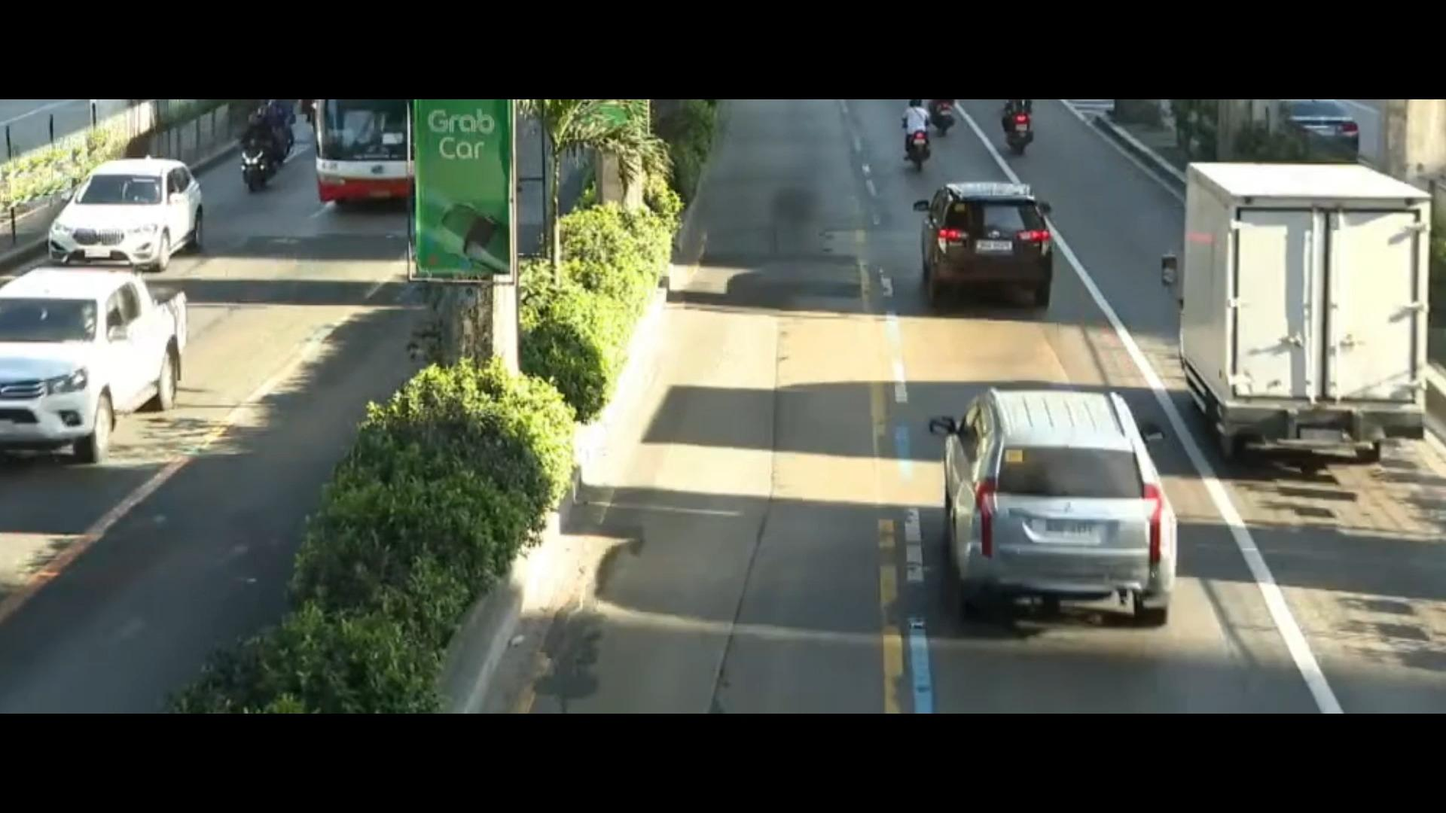Bus: (290, 101, 412, 215)
Motorcycle: (232, 104, 278, 187), (986, 98, 1053, 148), (884, 104, 930, 166), (268, 98, 302, 163), (927, 96, 961, 136)
Pickup: (0, 254, 215, 502)
SUV: (908, 354, 1227, 651), (918, 176, 1055, 342)
Sedan: (28, 153, 202, 276)
Truck: (1134, 125, 1446, 461)
